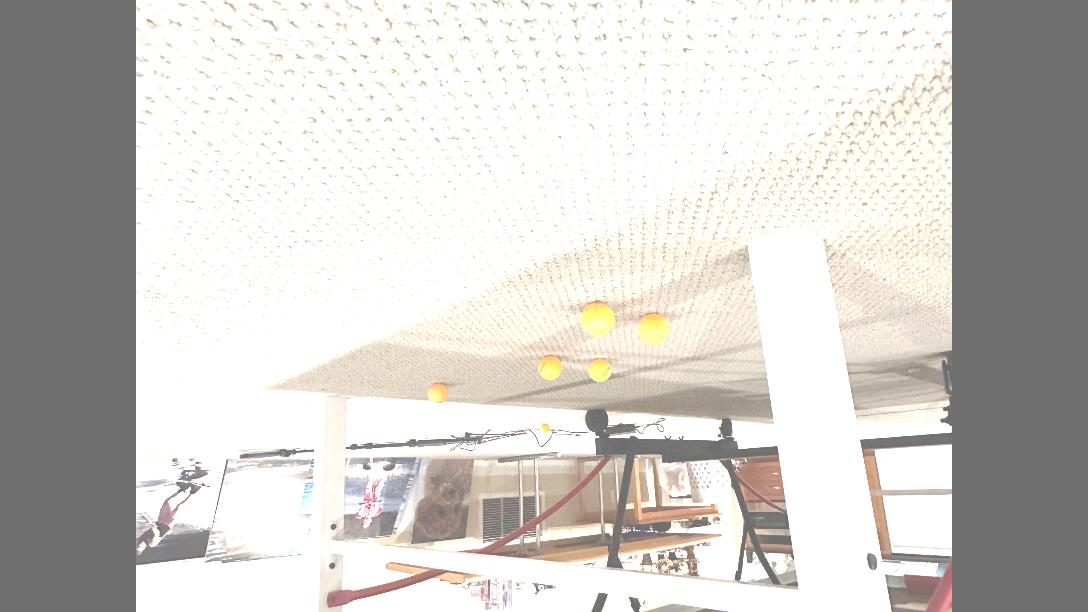Table-Tennis-Ball: (638, 314, 670, 346), (582, 304, 614, 336), (539, 355, 563, 380), (588, 358, 612, 382), (428, 383, 448, 403), (540, 424, 550, 436)
